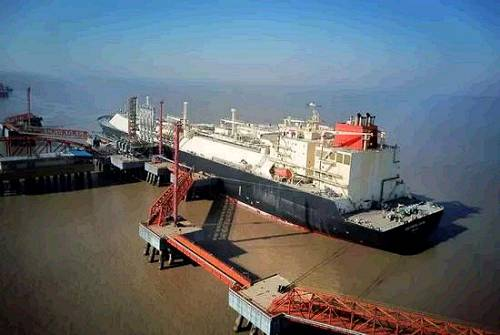Cargoship: (109, 97, 445, 243)
